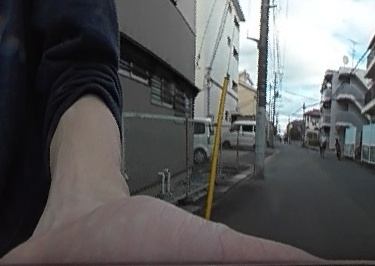person: (318, 129, 327, 154)
